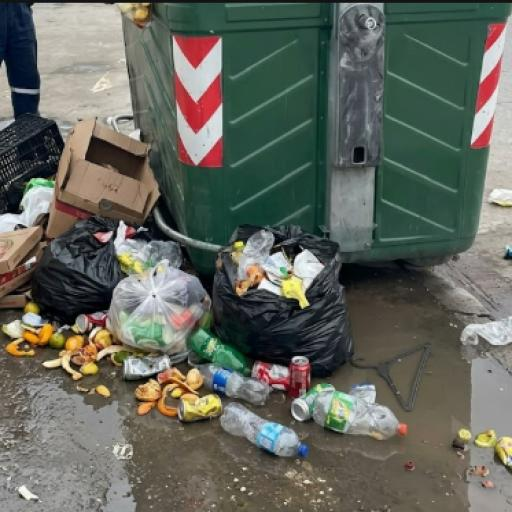Basura_fuera: (0, 0, 511, 511), (125, 0, 511, 376), (21, 3, 349, 246), (21, 199, 135, 326), (122, 278, 152, 305)
